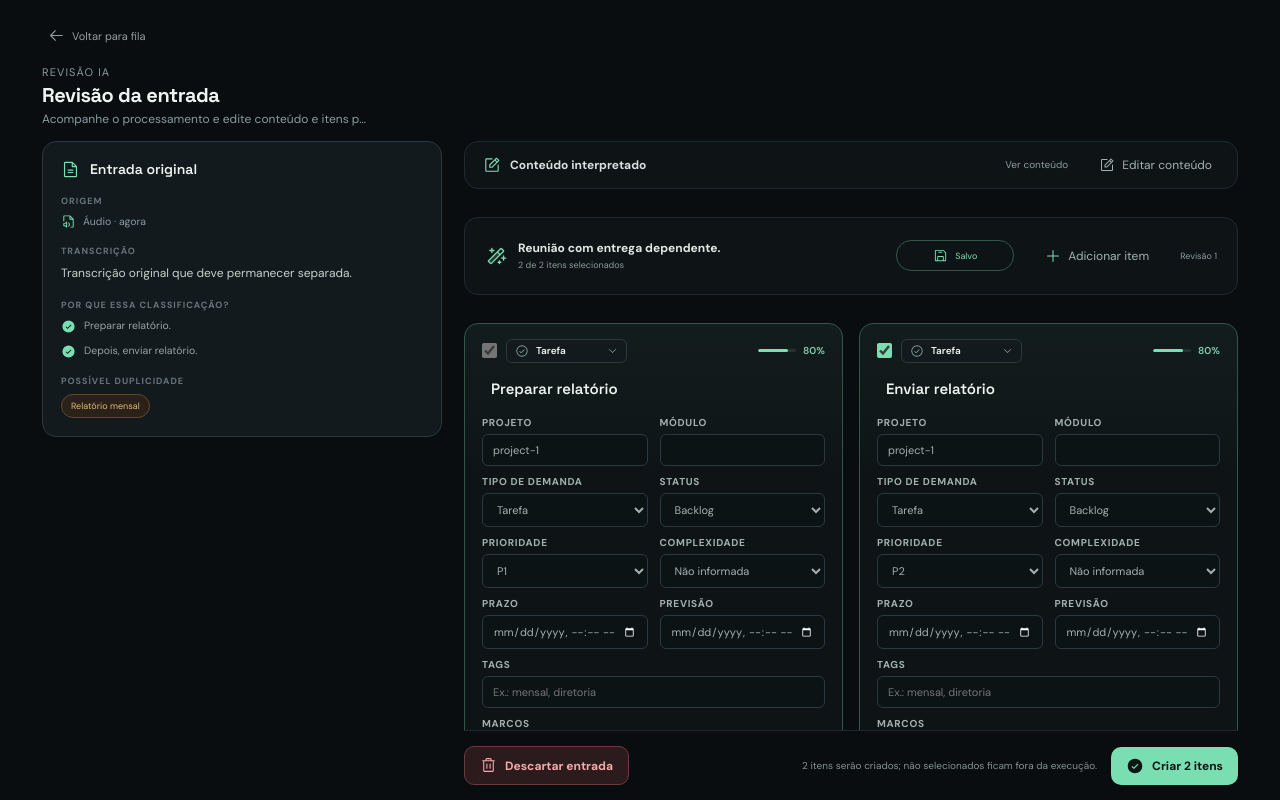
Test case: front do harness supervisionado › sinaliza itens que ficarão de fora da execução
Check: the text "Fica de fora" is not shown
Click the checkbox named "Incluir Enviar relatório" at (884, 351), box [877,343,892,358]
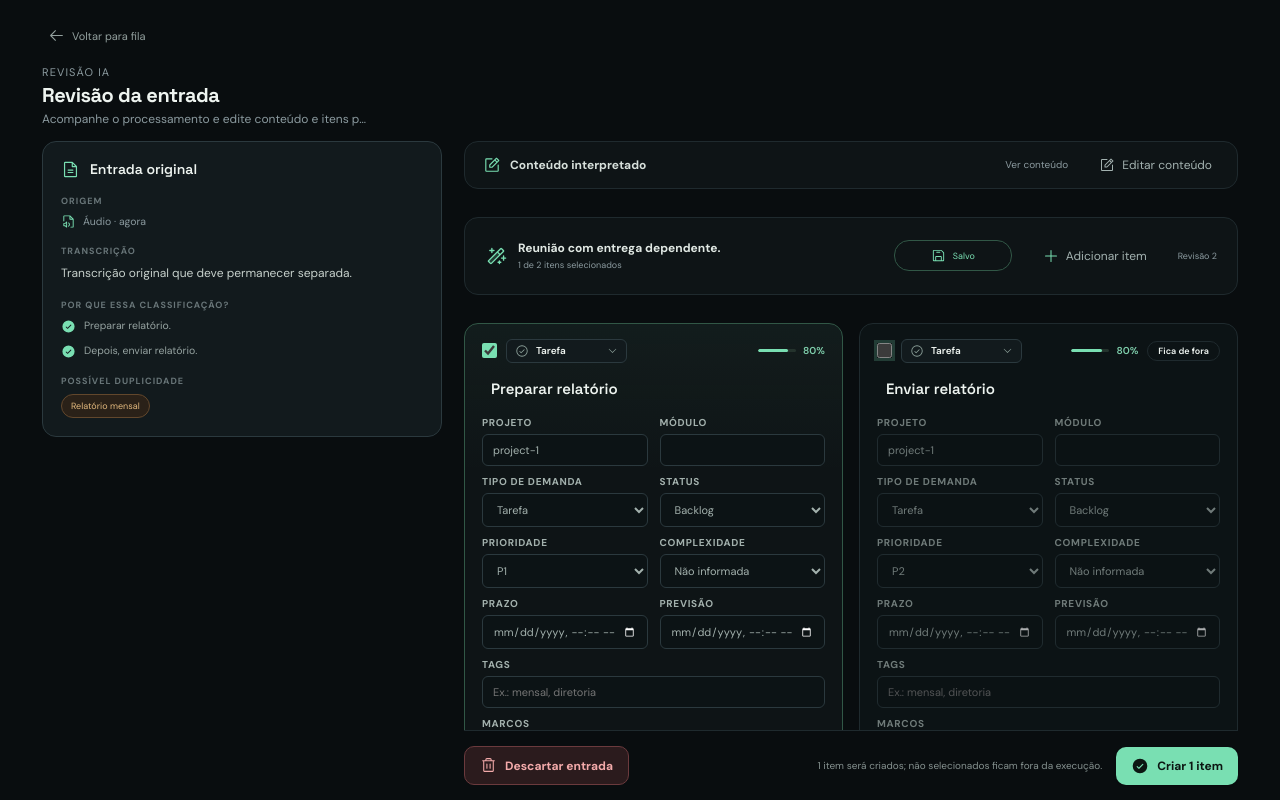
Check: the button "Criar 1 item" is enabled, box [1116,746,1238,784]
Check: the text "Fica de fora" is shown, box [1147,341,1220,361]
